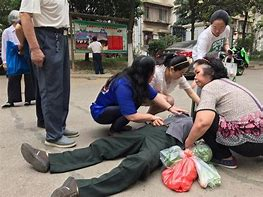fall: (12, 101, 216, 197)
